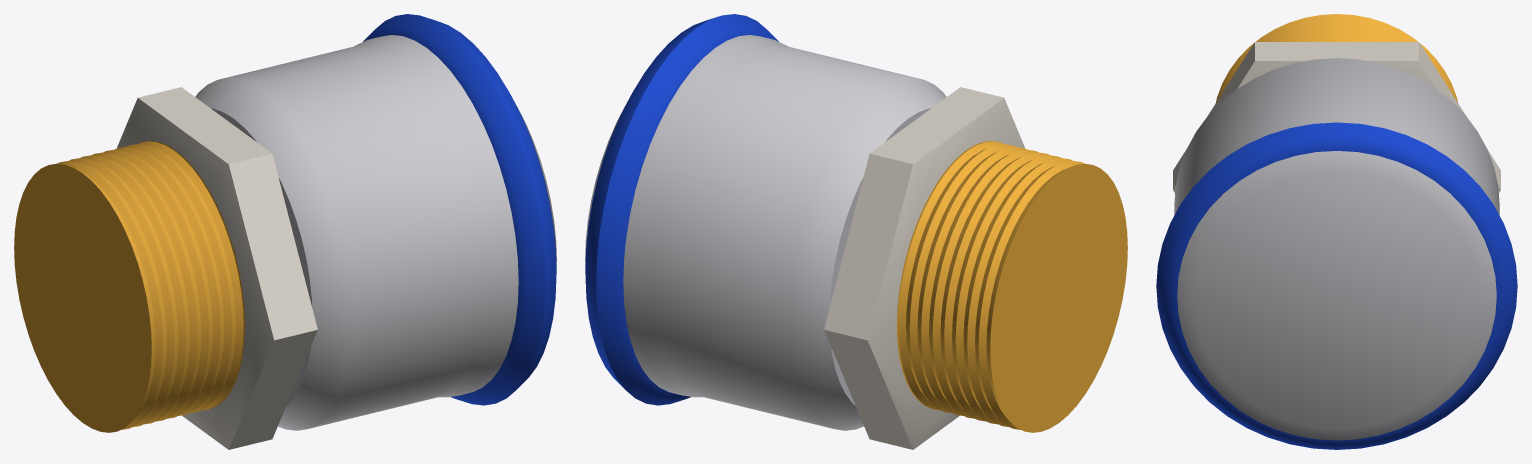
Rendered from fitting_adp_35x1_M.glb.
3 views of the same model, side by side, from view 1: azimuth 30°, elevation 25°; view 2: azimuth 150°, elevation 25°; view 3: azimuth 270°, elevation 25° (orthographic). The views are drawn at different scales.
Visible parts, largest first — view 1: раструб, резьба НР, шестигранник переходника, кольцо пресс; view 2: раструб, резьба НР, шестигранник переходника, кольцо пресс; view 3: раструб, кольцо пресс, шестигранник переходника, резьба НР.
Boxes of the visible parts, x1,y1,x2,y2 form: раструб: (195,35,556,430); резьба НР: (14,141,245,432); шестигранник переходника: (116,87,317,449); кольцо пресс: (363,14,556,405); раструб: (585,35,946,430); резьба НР: (896,141,1127,432); шестигранник переходника: (824,87,1025,449); кольцо пресс: (585,14,778,405); раструб: (1174,58,1499,440); кольцо пресс: (1156,122,1517,449); шестигранник переходника: (1173,42,1500,192); резьба НР: (1216,14,1457,102).
Size of the model in its own units: 0.055 by 0.0483 by 0.0483.
